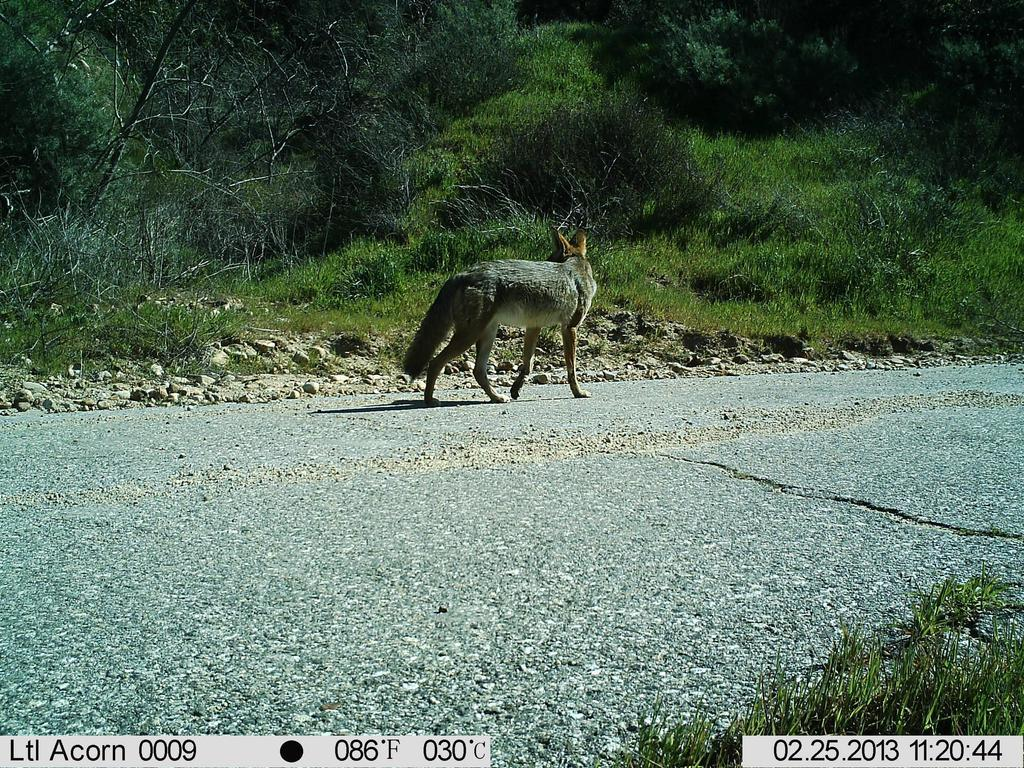coyote: (399, 223, 605, 411)
